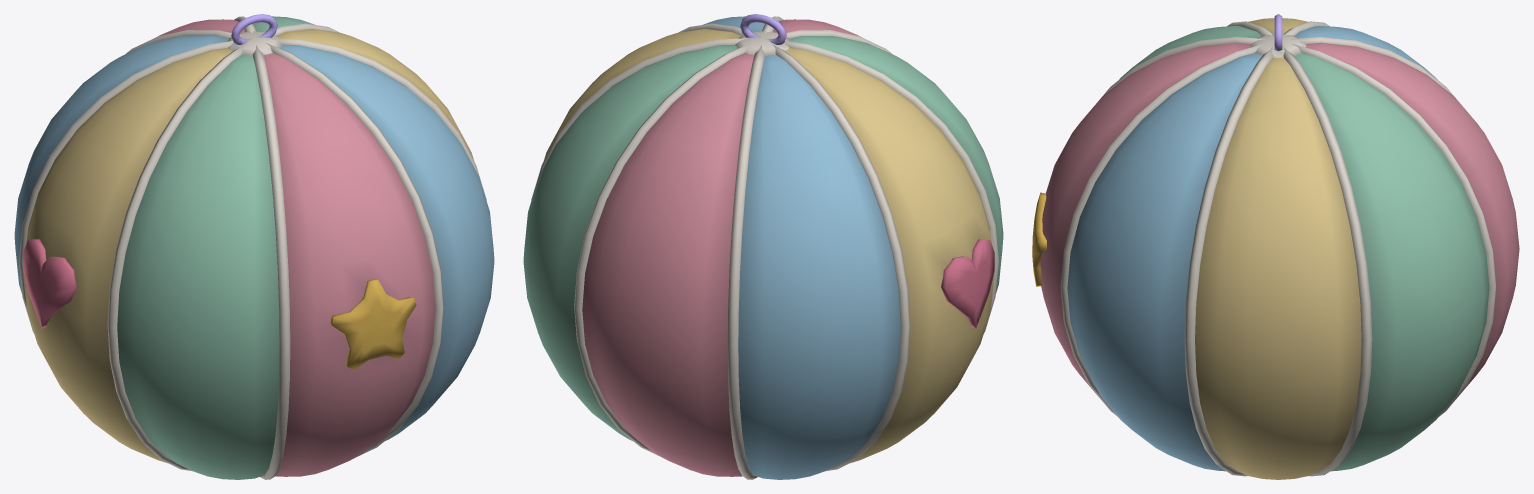
File: giant-plush-ball.glb
The picture shows the model from 3 angles, left to right: view 1: azimuth 30°, elevation 25°; view 2: azimuth 150°, elevation 25°; view 3: azimuth 270°, elevation 25°; orthographic projection.
Parts seen in each view (by area): view 1: giant-plush-ball; view 2: giant-plush-ball; view 3: giant-plush-ball.
Part boxes in pixels (<box>): giant-plush-ball: <box>14,14,494,479</box>; giant-plush-ball: <box>523,14,1003,479</box>; giant-plush-ball: <box>1032,14,1519,479</box>.
Bounding box in the file's own units: 1.77 × 1.76 × 1.77.
